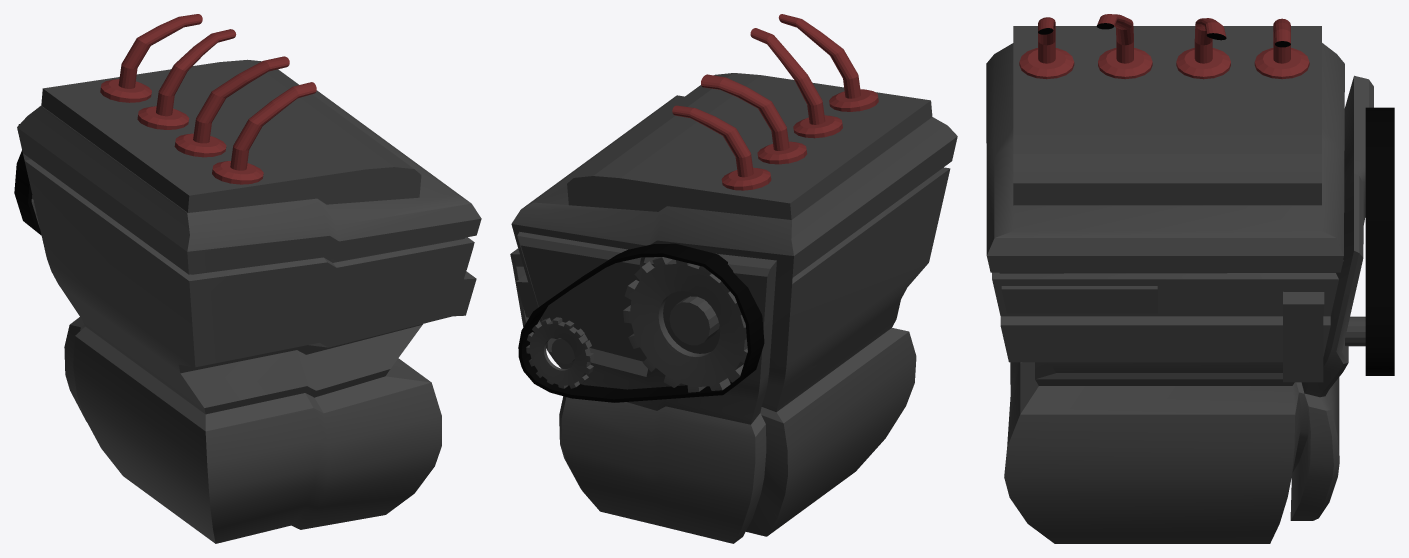
Rendered from Engine.fbx.
The picture shows the model from 3 angles, left to right: view 1: azimuth 30°, elevation 25°; view 2: azimuth 150°, elevation 25°; view 3: azimuth 270°, elevation 25°; orthographic projection. The views are drawn at different scales.
Visible parts, largest first — view 1: Motor; view 2: Motor; view 3: Motor.
Boxes of the visible parts, <box> form: Motor: <box>14,14,481,543</box>; Motor: <box>510,14,957,543</box>; Motor: <box>986,14,1394,543</box>.
Size of the model in its own units: 89.97 by 129 by 99.01.
